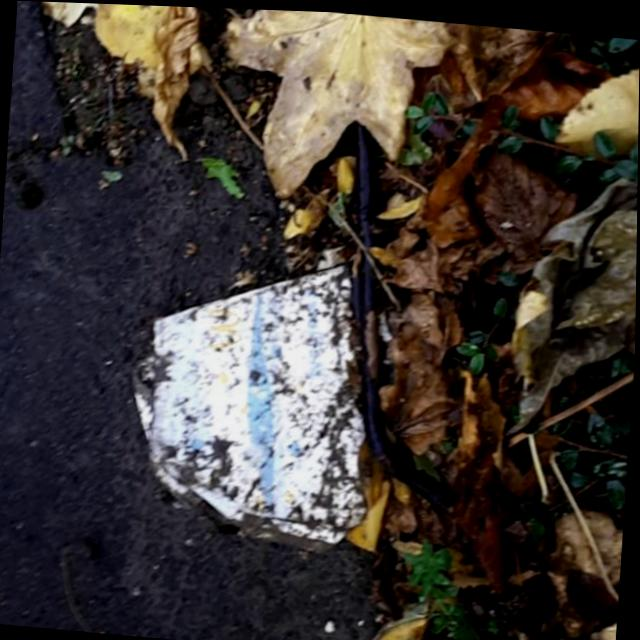Paper: (115, 238, 386, 559)
